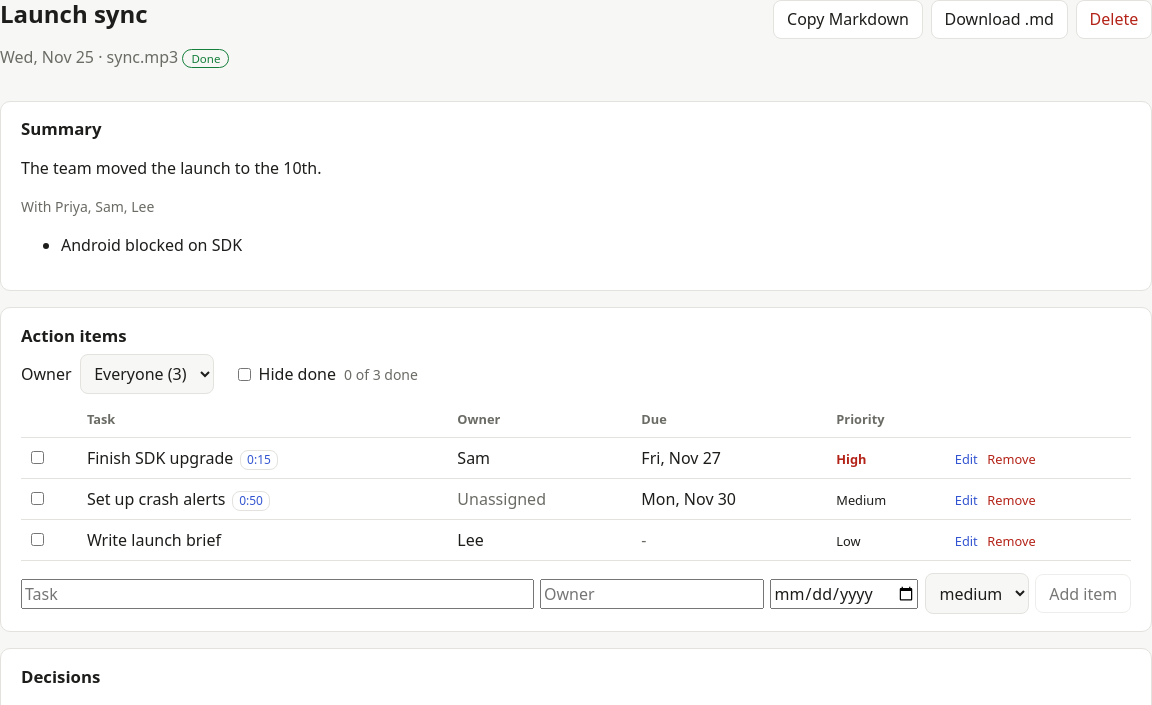
Test case: MeetingView › action items › rolls a check back and shows the error when the server refuses
Click the checkbox named "Done: Finish SDK upgrade". click: point(38, 458)
box: [31,452,44,464]
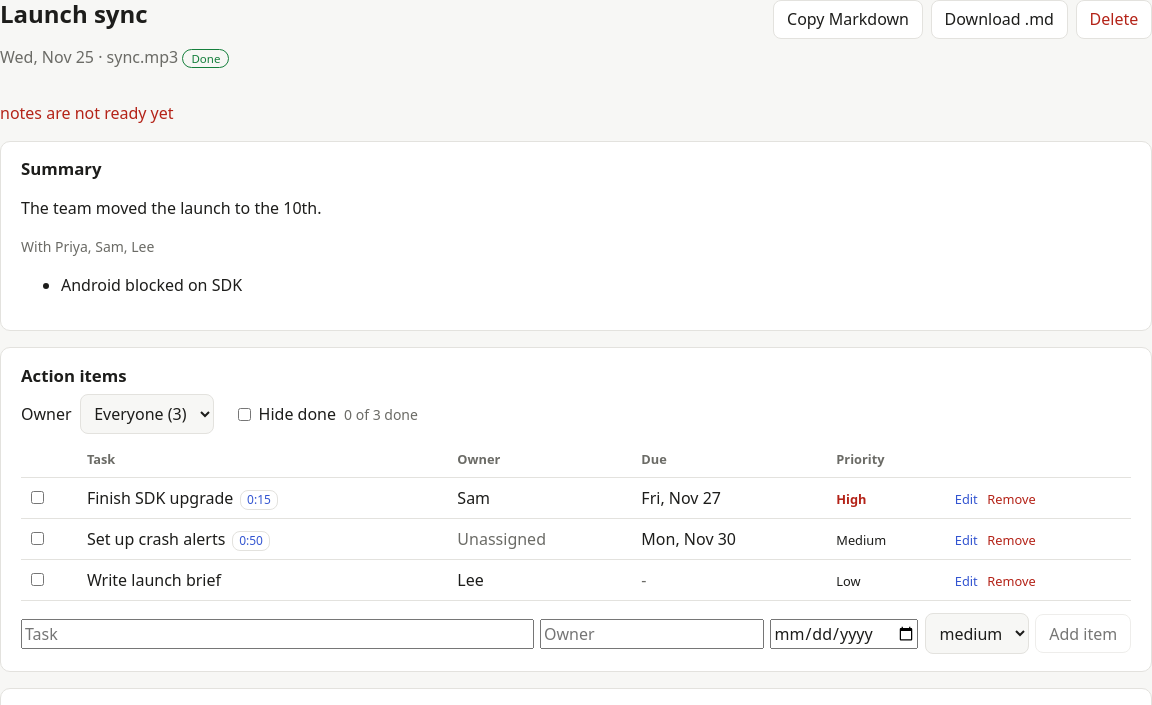
Expected: the checkbox named "Done: Finish SDK upgrade" is not checked, [31,492,44,504]
Result: the message reads "notes are not ready yet" at [0,102,174,124]
